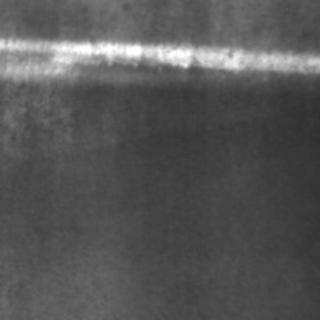scratches: (0, 34, 316, 78)
